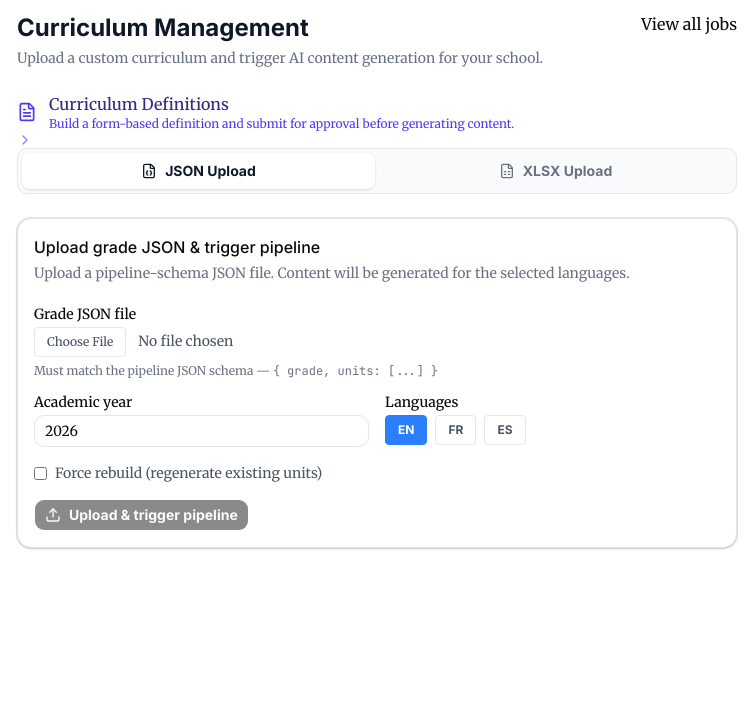
Test: SCH-24 — Upload form renders › renders the XLSX file picker
Click the button "XLSX Upload" at (556, 171), box [379,153,732,189]
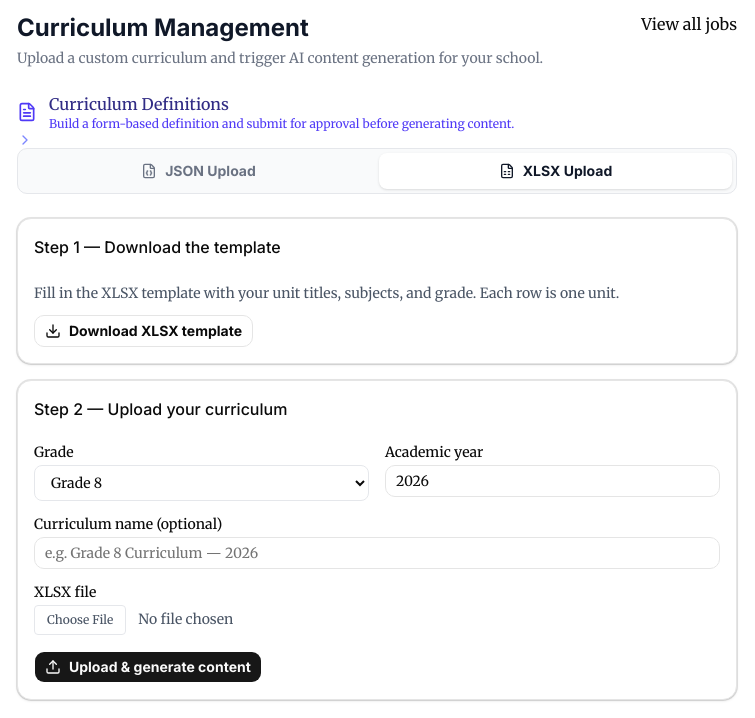
Now the file field labelled "XLSX file" is shown, box [34,605,720,635]
